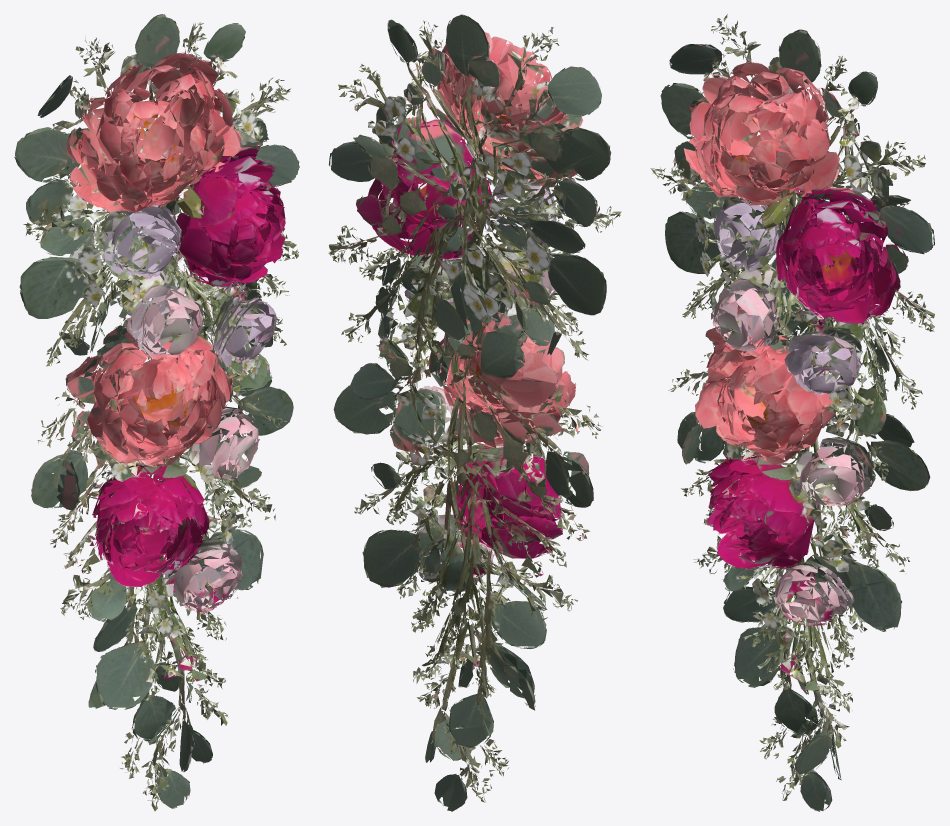
The model's file is cascade_wedding.glb.
3 views of the same model, side by side, from view 1: azimuth 30°, elevation 25°; view 2: azimuth 150°, elevation 25°; view 3: azimuth 330°, elevation 25° (orthographic). The views are drawn at different scales.
Parts seen in each view (by area): view 1: cascade_wedding; view 2: cascade_wedding; view 3: cascade_wedding.
Boxes of the visible parts, box(x1,y1,x2,y2) form: cascade_wedding: box(14, 14, 299, 811); cascade_wedding: box(328, 14, 621, 811); cascade_wedding: box(650, 14, 934, 811).
Bounding box in the file's own units: 0.3723 × 1 × 0.1227.
1 material, 1 textured.
